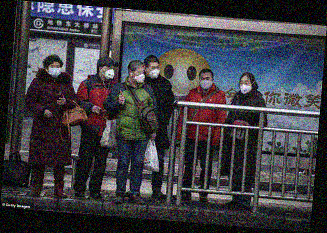with_mask: (46, 63, 62, 78), (239, 79, 253, 96), (199, 75, 213, 91), (102, 66, 116, 81), (133, 69, 146, 85), (147, 64, 160, 79)
